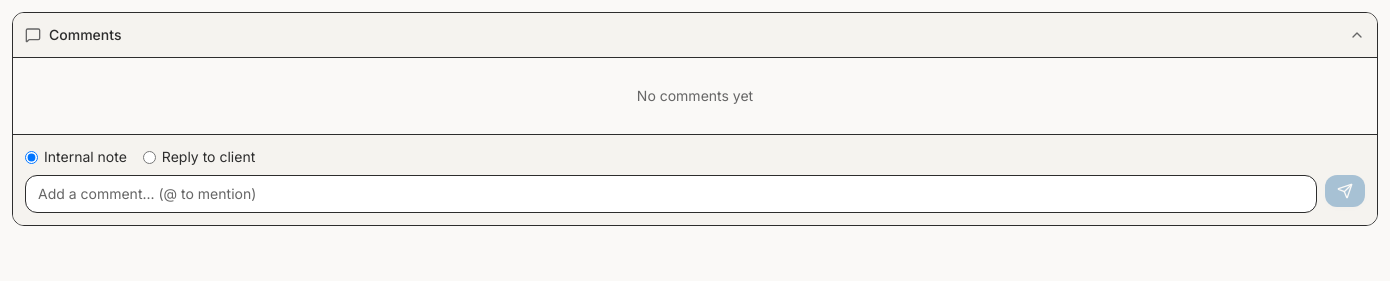
Reply to client email hint › says no email goes out while the client is in the portal
The image size is (1390, 281).
Click the radio button labelled "Reply to client".
click(149, 157)  # box [143,150,156,164]
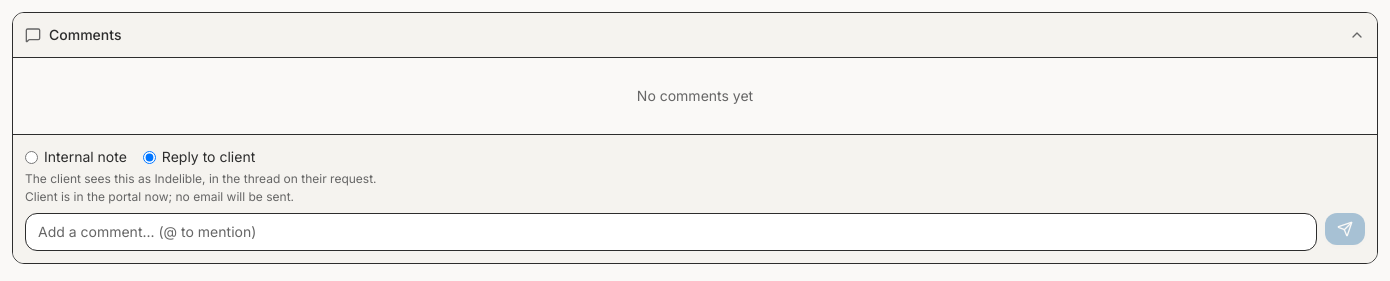
Check: the text with test id "client-email-hint" reads "Client is in the portal now; no email will be sent.", box [25,189,294,204]
